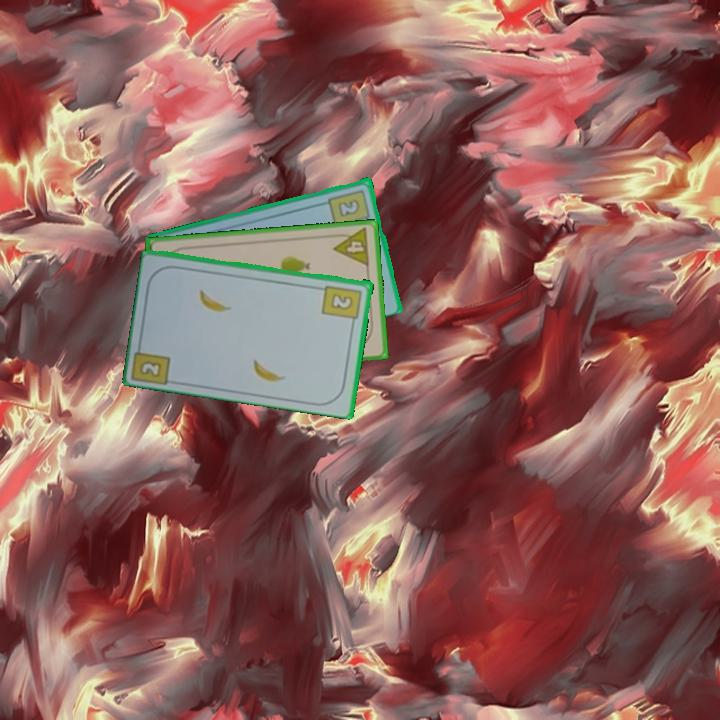2b: (319, 281, 365, 328), (130, 337, 174, 386), (325, 186, 373, 229)
4p: (329, 225, 372, 269)
